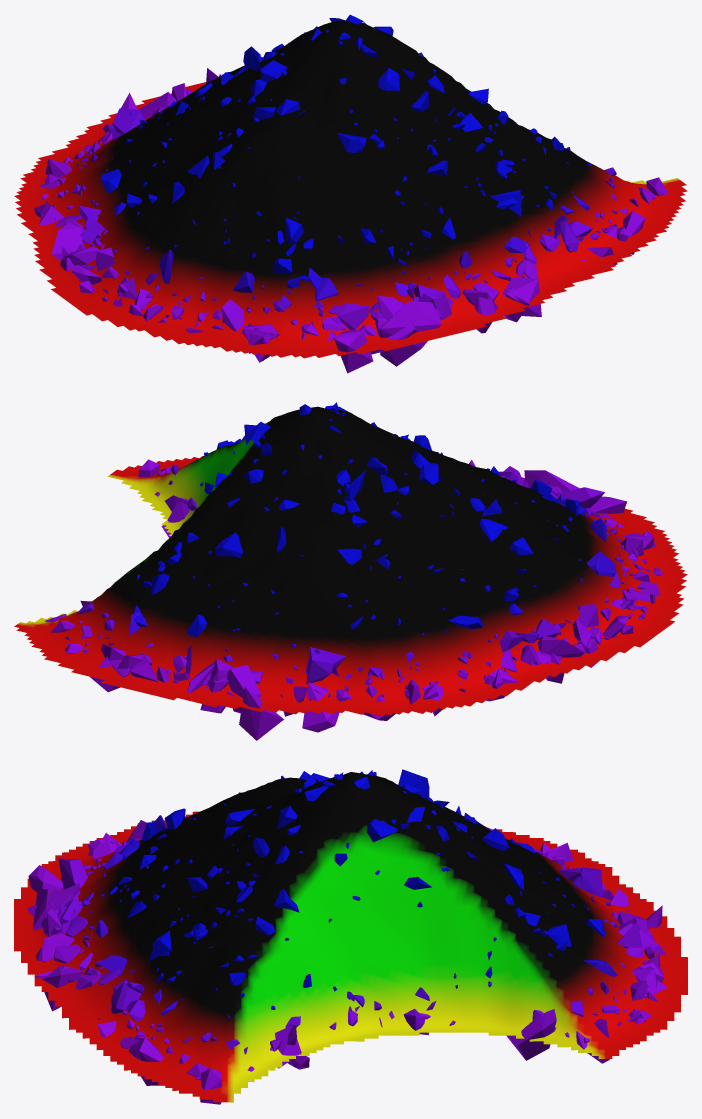
Rendered from CoalPile_C.fbx.
The picture shows the model from 3 angles, top to bottom: view 1: azimuth 30°, elevation 25°; view 2: azimuth 150°, elevation 25°; view 3: azimuth 270°, elevation 25°; orthographic projection. The views are drawn at different scales.
Visible parts, largest first — view 1: CoalPile_C_LOD0; view 2: CoalPile_C_LOD0; view 3: CoalPile_C_LOD0.
Part boxes in pixels (x1=…): CoalPile_C_LOD0: x1=14, y1=14, x2=687, y2=373; CoalPile_C_LOD0: x1=14, y1=402, x2=687, y2=740; CoalPile_C_LOD0: x1=14, y1=769, x2=687, y2=1104.
Size of what is drawn, in the model's own units: 10.3 by 3.72 by 9.8.
